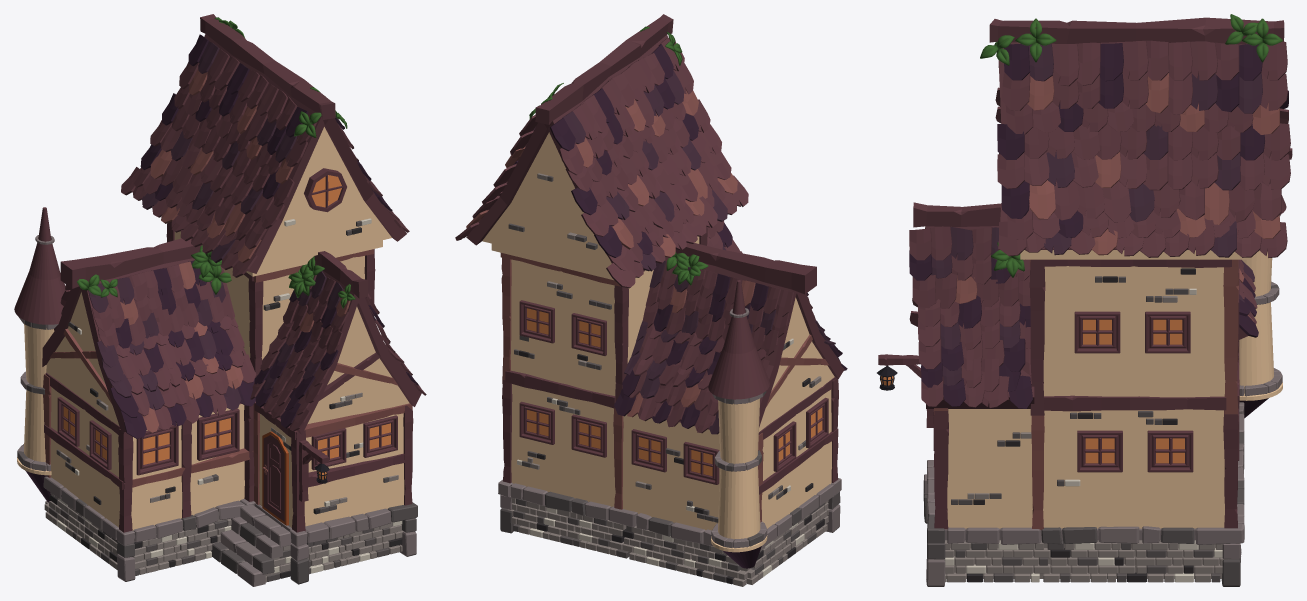
Rendered from casa-pedra1.fbx.
3 renders of one model, left to right at view 1: azimuth 30°, elevation 25°; view 2: azimuth 150°, elevation 25°; view 3: azimuth 270°, elevation 25°, orthographic. The views are drawn at different scales.
Visible parts, largest first — view 1: Cube.039, Cube.007; view 2: Cube.039; view 3: Cube.039.
Boxes of the visible parts, box(x1,y1,x2,y2) form: Cube.039: box(14, 14, 426, 586); Cube.007: box(262, 435, 284, 521); Cube.039: box(455, 14, 847, 586); Cube.039: box(877, 14, 1292, 586).
Bounding box in the file's own units: 483 × 715 × 500.
